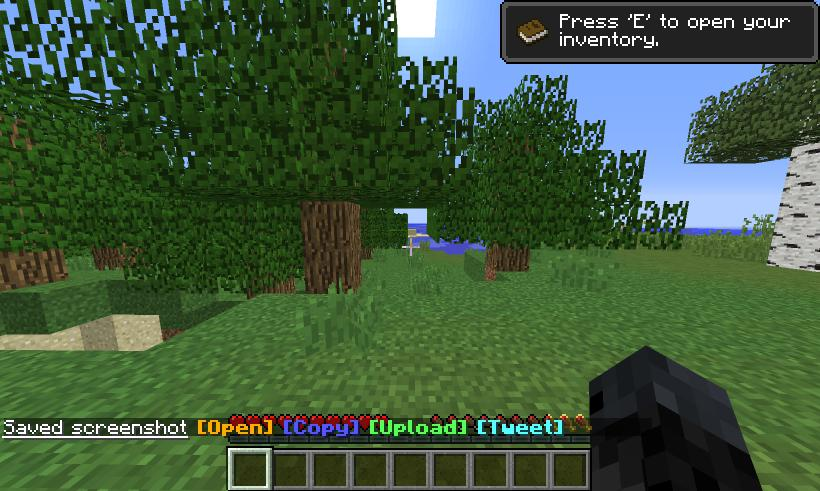minecraft-blocks: (775, 148, 820, 274), (307, 203, 361, 302), (1, 252, 72, 293), (487, 242, 531, 278)
